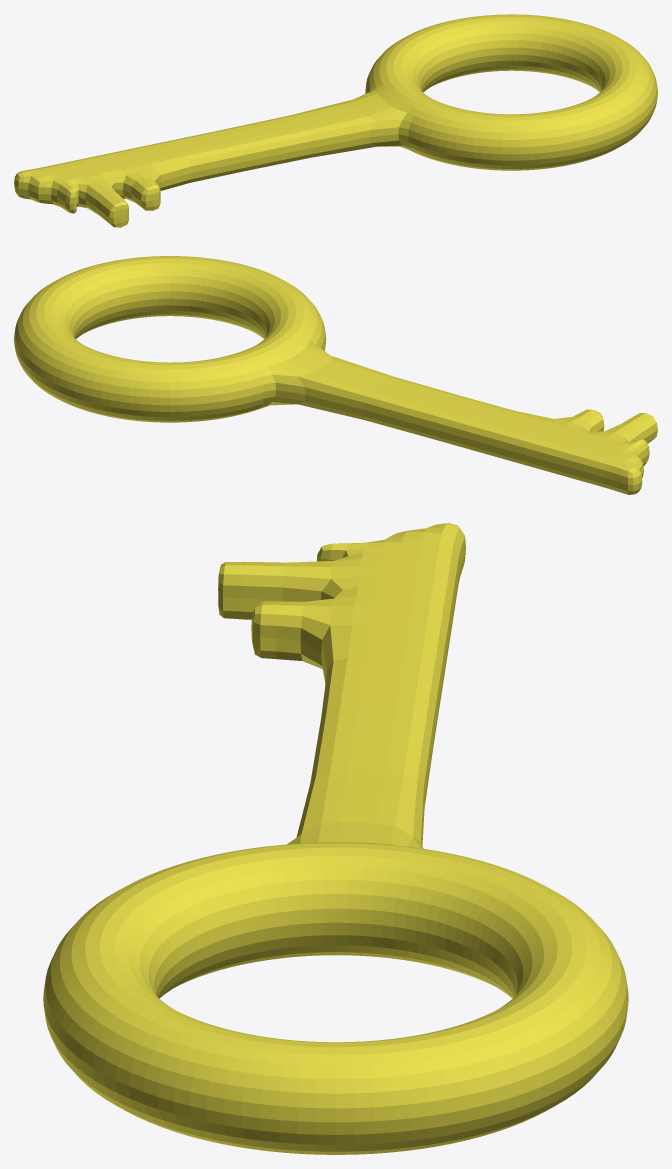
Rendered from key.fbx_Scene.fbx.
The picture shows the model from 3 angles, top to bottom: view 1: azimuth 30°, elevation 25°; view 2: azimuth 150°, elevation 25°; view 3: azimuth 270°, elevation 25°; orthographic projection. The views are drawn at different scales.
Parts seen in each view (by area): view 1: Torus; view 2: Torus; view 3: Torus.
Part boxes in pixels (bbox=[...]): Torus: bbox=[14, 14, 657, 227]; Torus: bbox=[14, 256, 657, 494]; Torus: bbox=[43, 523, 628, 1154].
Bounding box in the file's own units: 580 × 47.77 × 247.
